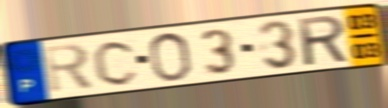3: (255, 18, 300, 72), (198, 27, 237, 76)
C: (92, 38, 141, 88)
O: (146, 30, 194, 84)
R: (41, 41, 97, 96), (295, 13, 350, 69)
